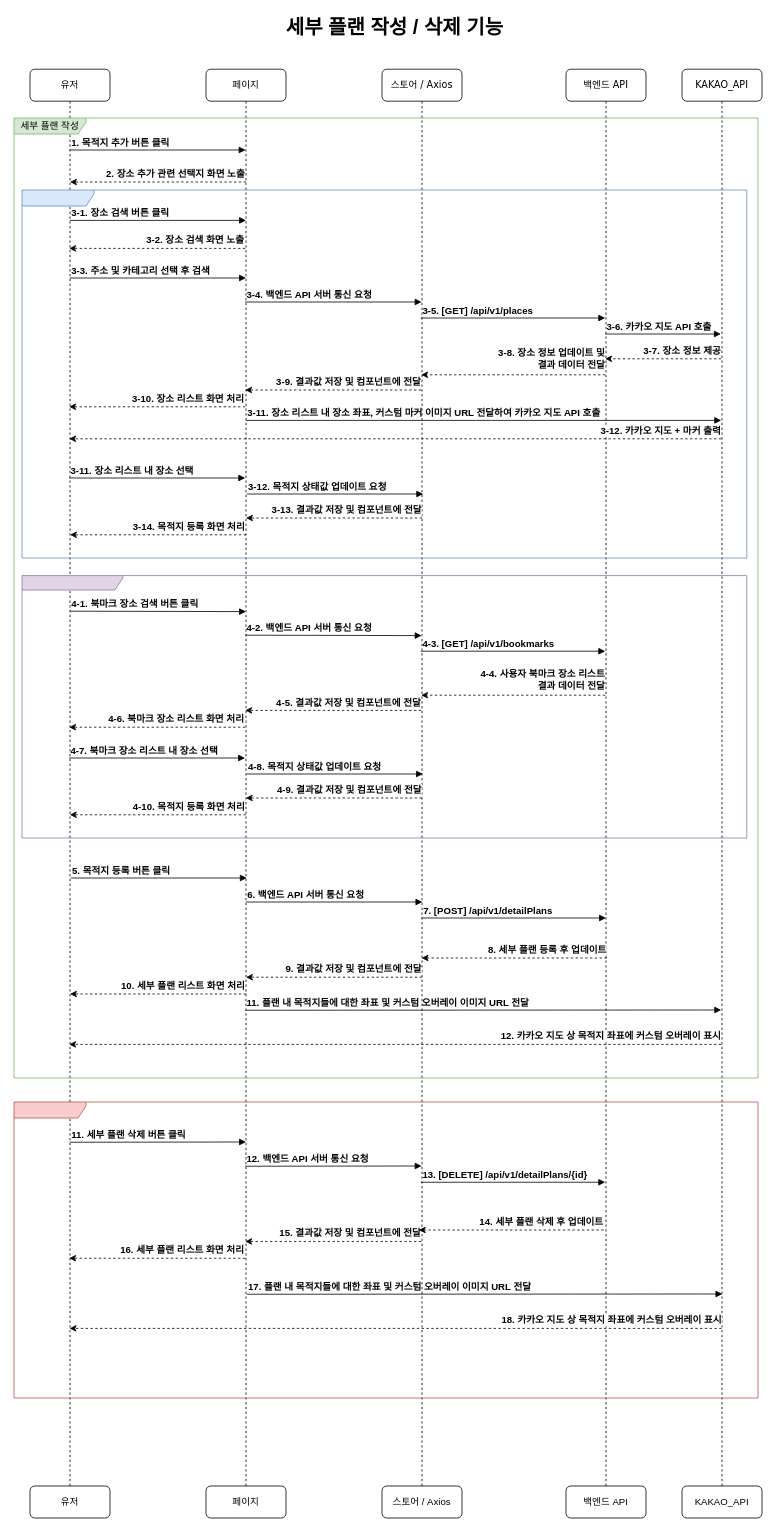
Image size: 776x1532. Some labels were removed from this diagram. The box of each missing label's shape, as (x1, y1, x2, y2) in pixels:
북마크 장소 검색 시: (21, 575, 747, 838)
세부 플랜 삭제: (13, 1101, 758, 1398)
장소 검색 시: (21, 189, 747, 558)
